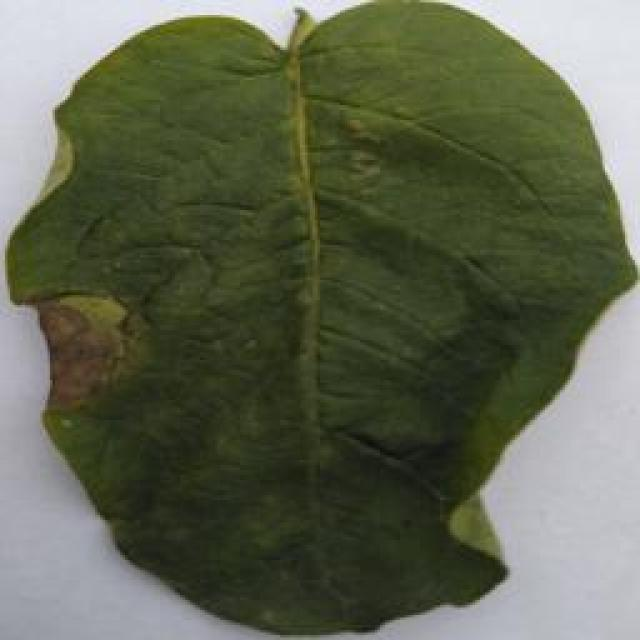Potato_Late_Blight: (9, 3, 628, 633)
